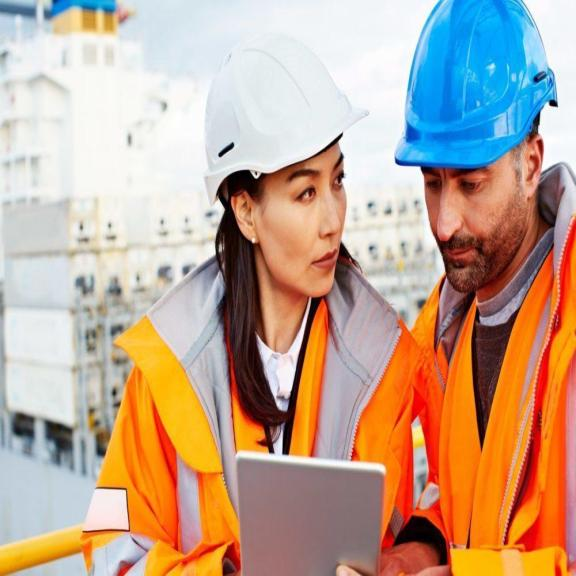safety_vest: (121, 276, 431, 576), (404, 262, 576, 576)
